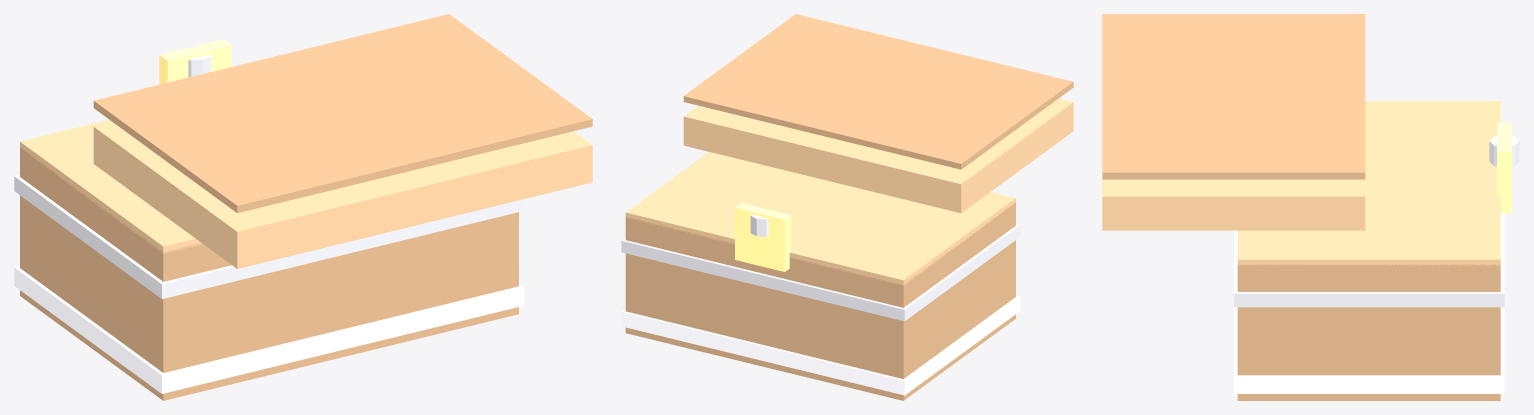
Rendered from chest_0.glb.
3 renders of one model, left to right at view 1: azimuth 30°, elevation 25°; view 2: azimuth 150°, elevation 25°; view 3: azimuth 270°, elevation 25°, orthographic. The views are drawn at different scales.
Visible parts, largest first — view 1: chest_tilt0; view 2: chest_tilt0; view 3: chest_tilt0.
Boxes of the visible parts, x1=… form: chest_tilt0: x1=14, y1=14, x2=592, y2=400; chest_tilt0: x1=621, y1=14, x2=1073, y2=400; chest_tilt0: x1=1102, y1=14, x2=1519, y2=400.
Bounding box in the file's own units: 1.02 × 0.67 × 1.11.
